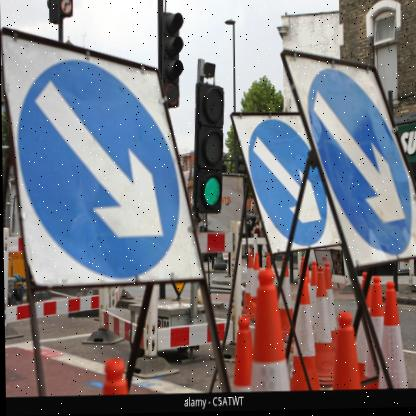Keep right: (0, 25, 185, 282), (305, 55, 416, 268), (236, 111, 325, 255)
